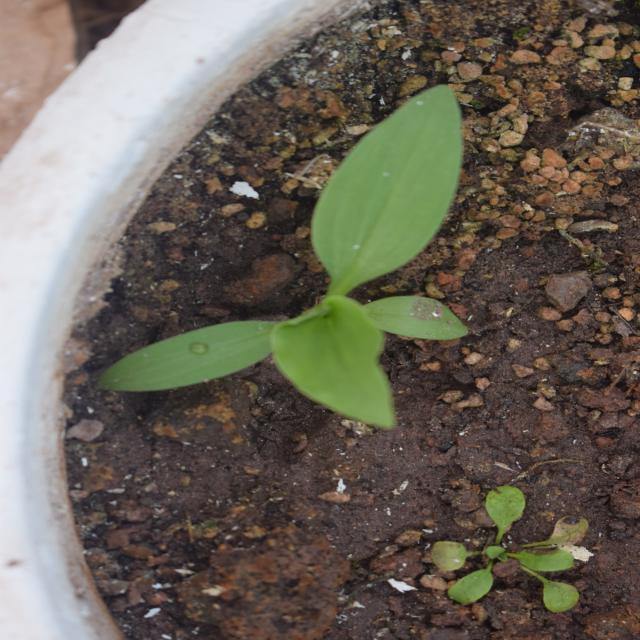Common Dayflower: (105, 136, 416, 518)
